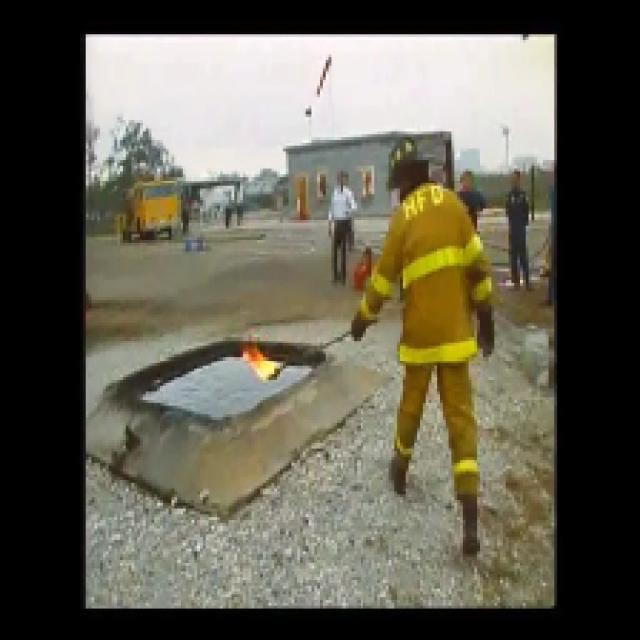fire: (237, 336, 283, 384)
